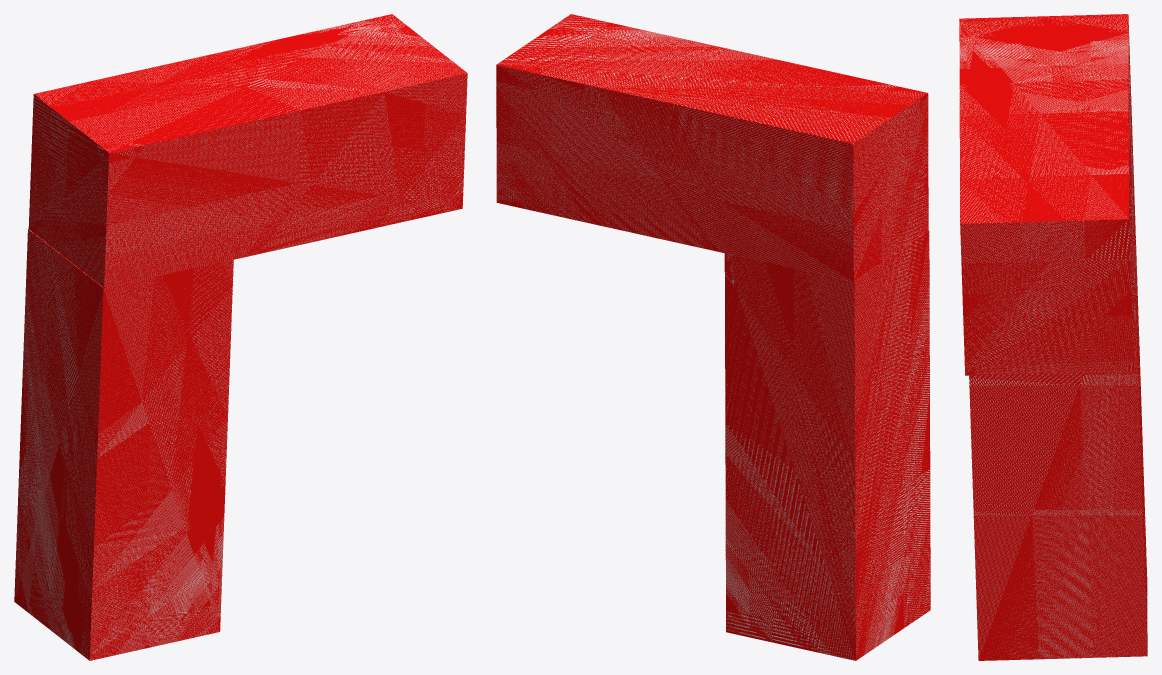
File: Abstract_robot.dae
3 renders of one model, left to right at view 1: azimuth 30°, elevation 25°; view 2: azimuth 150°, elevation 25°; view 3: azimuth 270°, elevation 25°, orthographic. The views are drawn at different scales.
Parts seen in each view (by area): view 1: SketchUp (×2); view 2: SketchUp (×2); view 3: SketchUp (×2).
Boxes of the visible parts, x1=… form: SketchUp (×2): x1=14, y1=14, x2=467, y2=660; SketchUp (×2): x1=496, y1=14, x2=930, y2=660; SketchUp (×2): x1=959, y1=14, x2=1147, y2=660.
Size of the model in its own units: 53.56 by 21.03 by 71.7.
